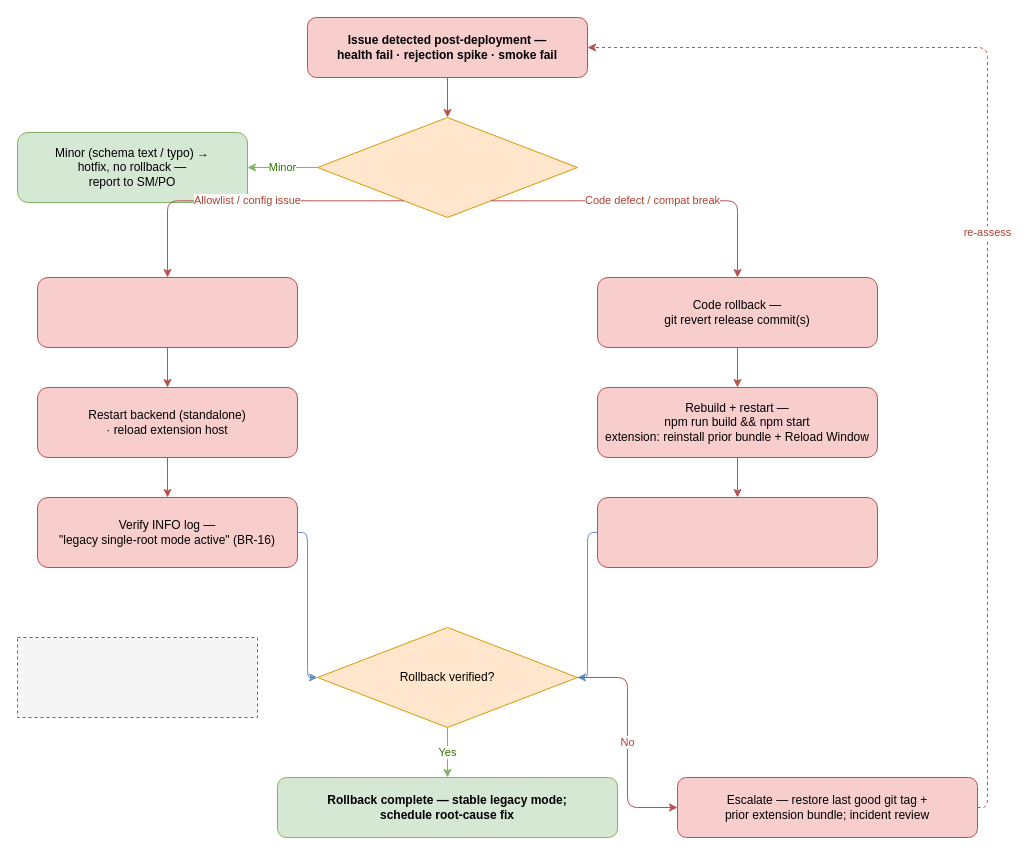
The diagram is 1029 pixels wide and 855 high, and some of its shapes have lost their labels. The shapes that lost their labels are listed below. From the top down, each one's centre as x and y in pixels, then its label:
At point 447,167: "Assess cause and severity".
At point 167,312: "Config rollback — remove MCP_WORKSPACE_ROOTS + MCP_WORKSPACE_ROOTS_FILE".
At point 737,532: "Verify — GET /health 200 + legacy smoke V4 passes".
At point 137,677: "No database rollback required — feature has no DB changes (TDD §4.1)".
